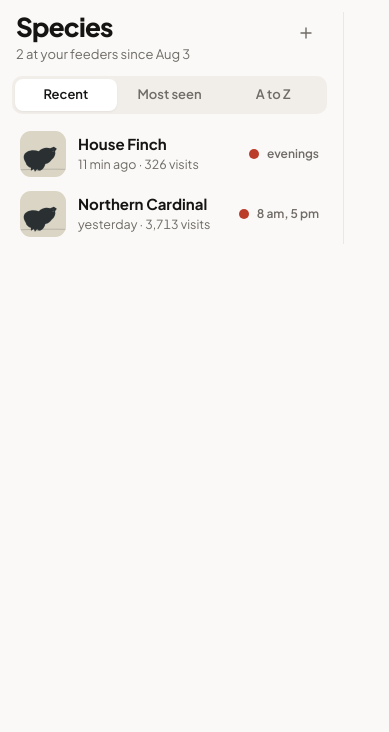
Test case: species page › opens from the list on a phone, with a dial in the browser's zone
Click the button "Northern Cardinal yesterday · 3,713 visits 8 am, 5 pm". click: (170, 214)
box: [12,184,327,244]
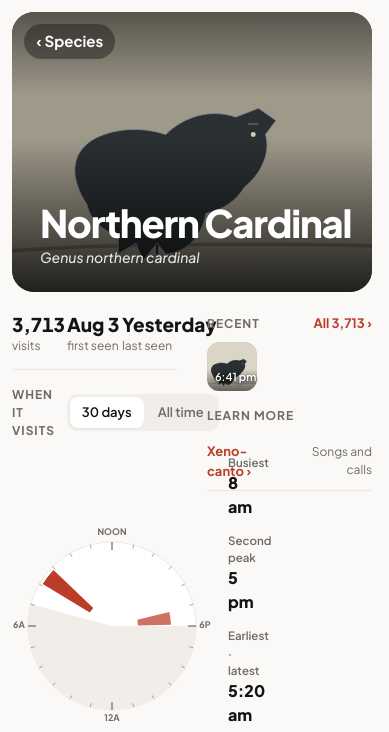
Check: the text "3,713" is shown, box [12,312,67,337]
Click the button "All time". click: (181, 413)
box: [146,397,216,428]
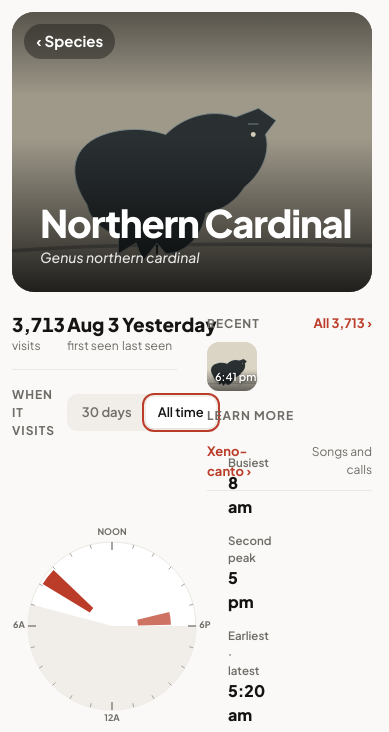
Click the button with aria-label "Northern Cardinal, ". click: (232, 366)
box: [207,342,257,391]
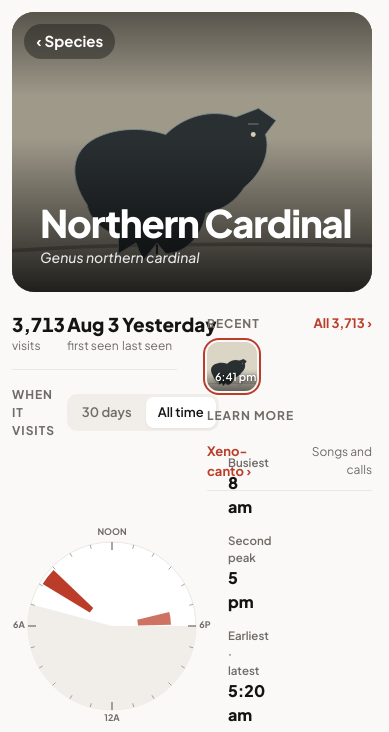
Click the button "‹ Species". click: (70, 41)
box: [24,24,115,58]
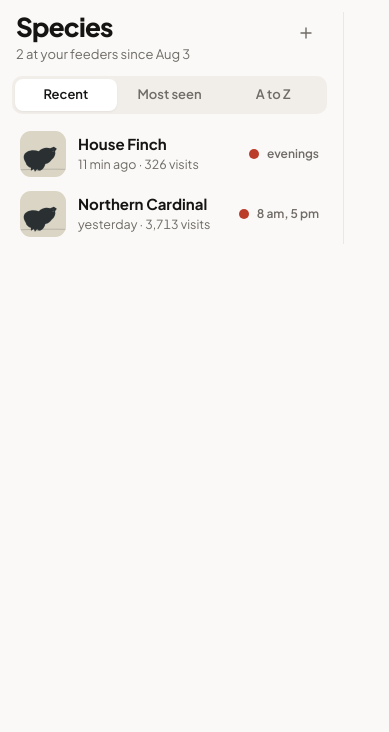
Check: the navigation bar "Species" is shown, box [12,12,344,244]
